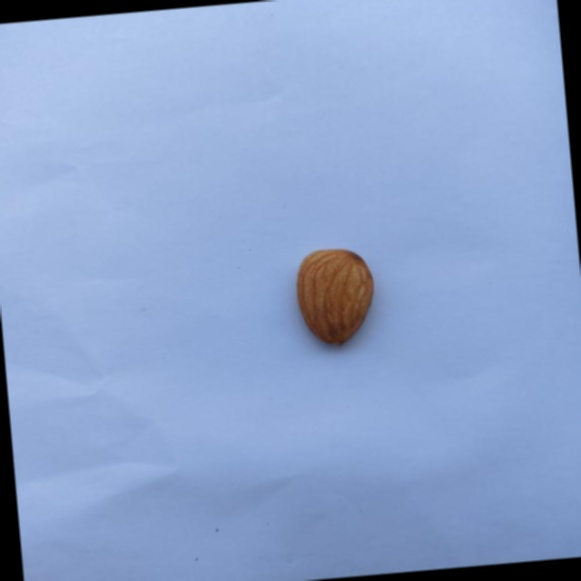grade1: (284, 239, 385, 357)
